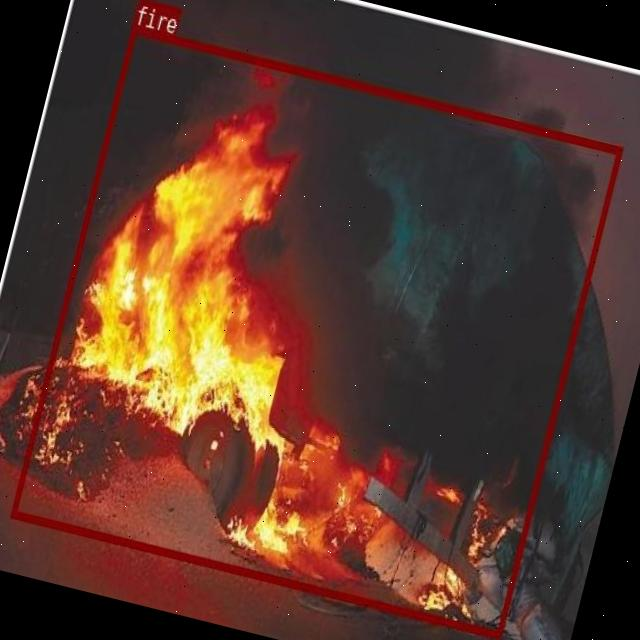fire: (9, 25, 622, 639)
